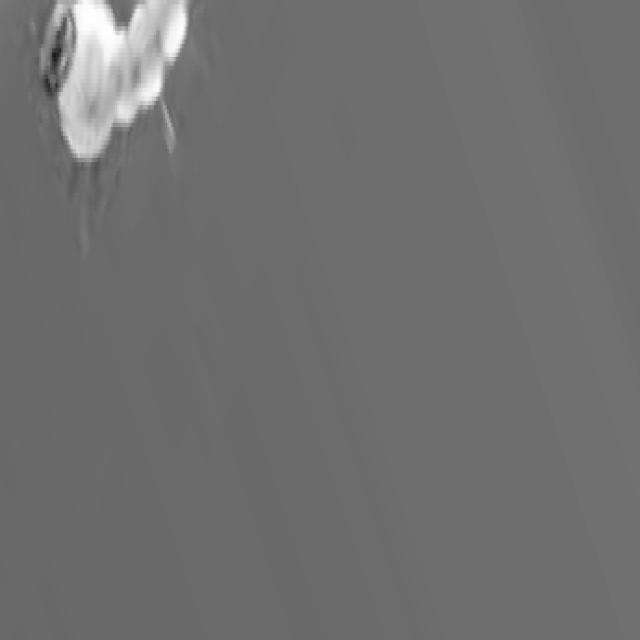larvas: (37, 0, 189, 166)
